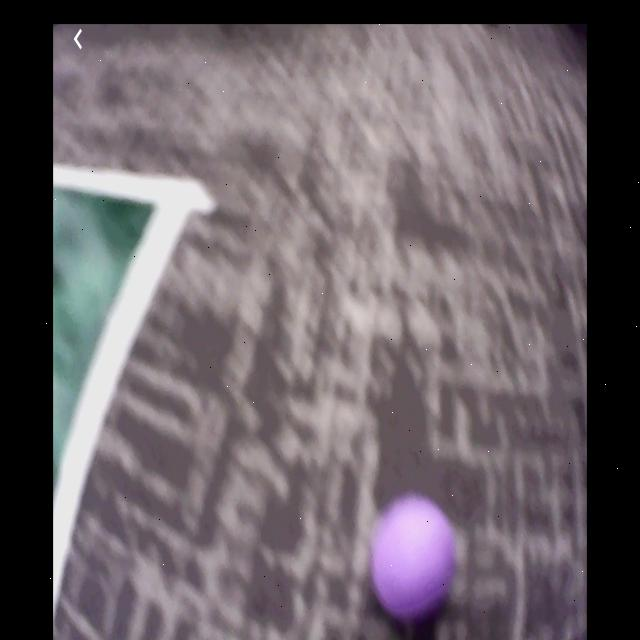ball: (372, 493, 453, 622)
